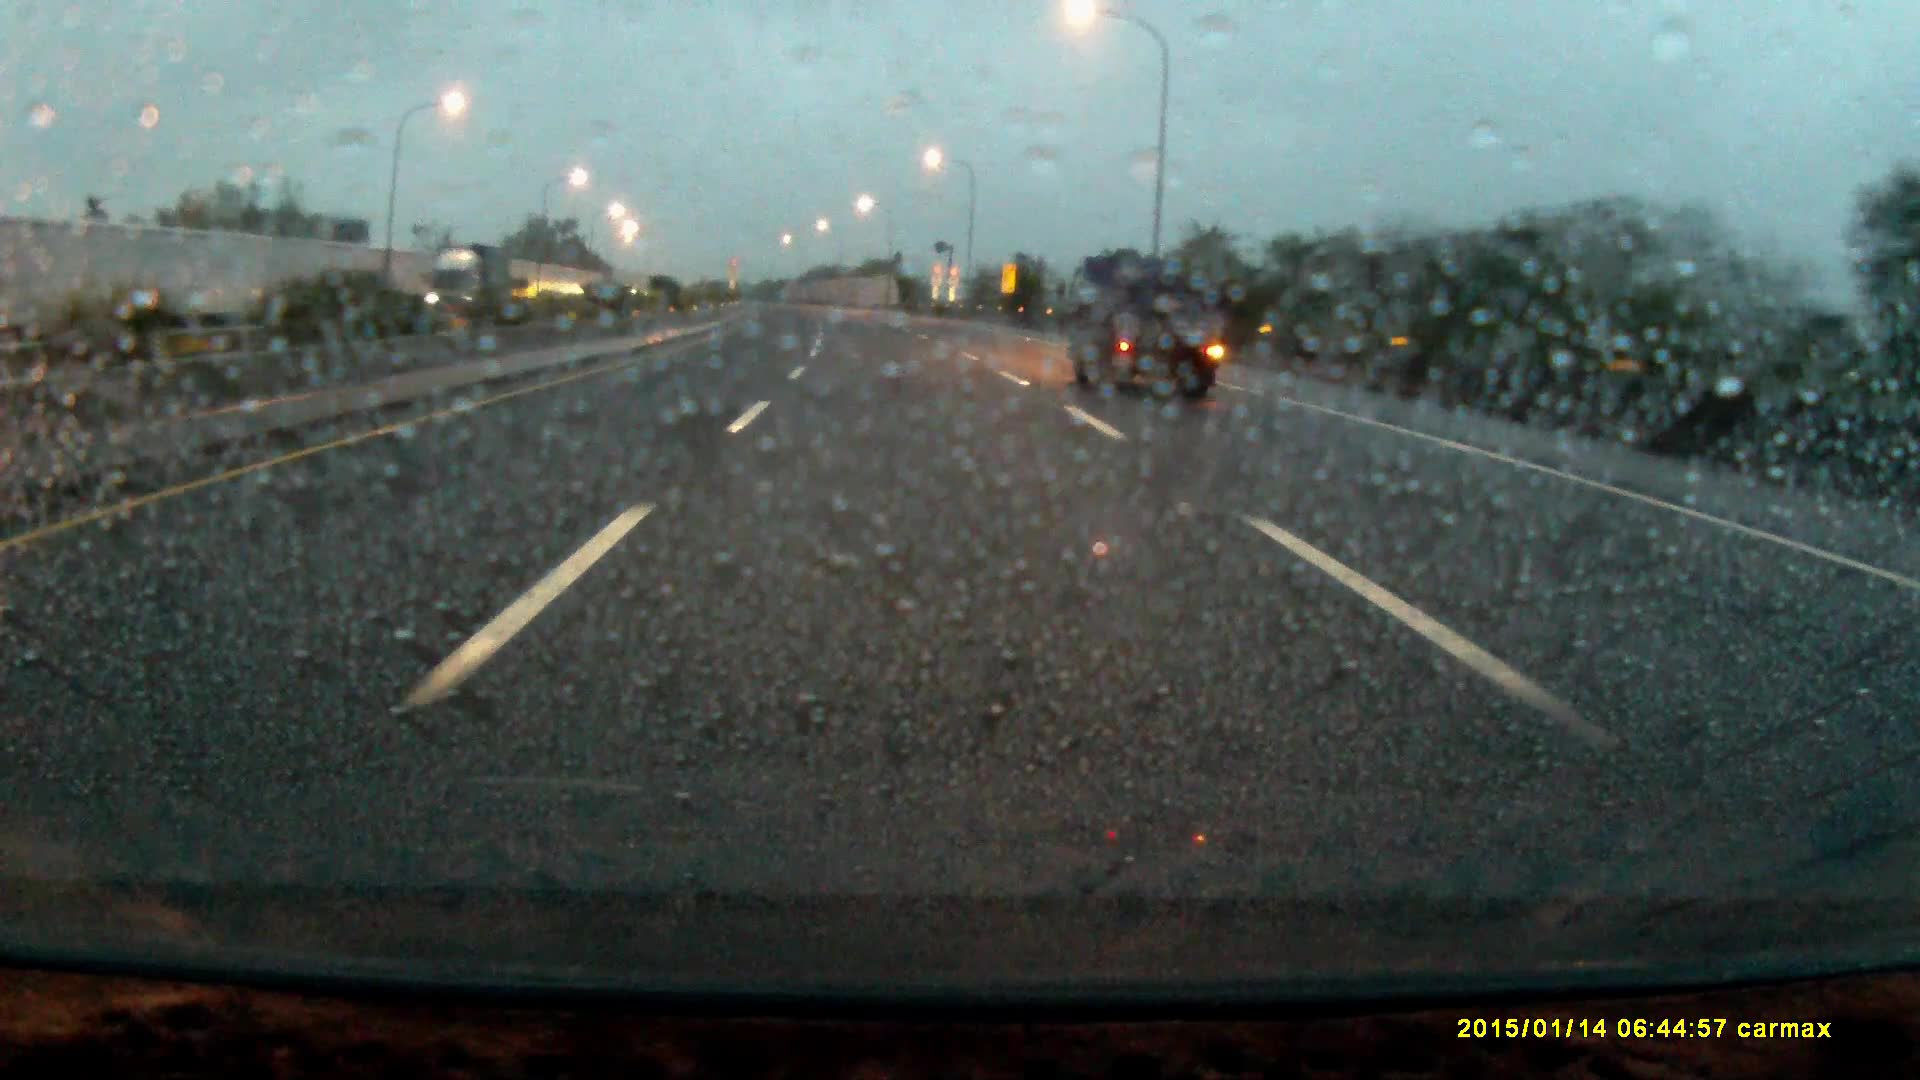vehicle: (1065, 251, 1218, 402), (425, 243, 516, 328)
